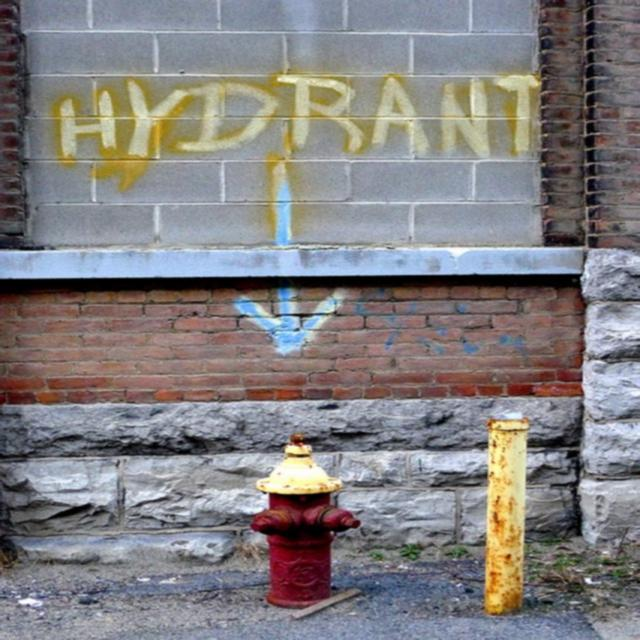fire_hydrant: (248, 433, 362, 608)
warning_column: (472, 408, 534, 612)
